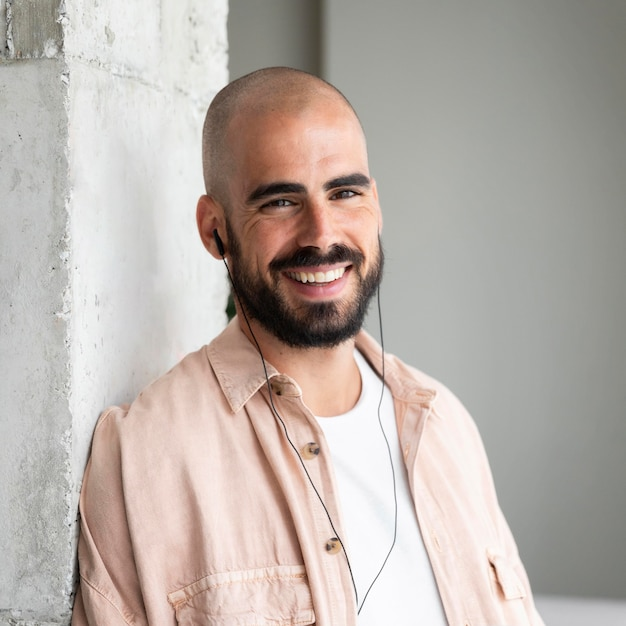young: (182, 70, 407, 353)
